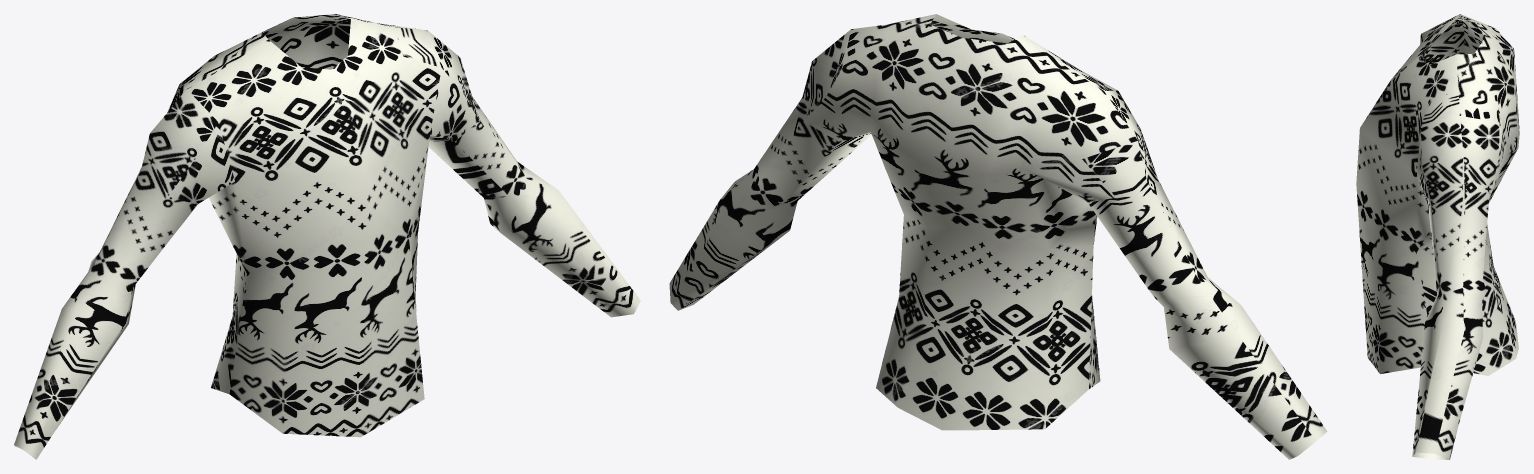
File: sweater5.fbx
3 views of the same model, side by side, from view 1: azimuth 30°, elevation 25°; view 2: azimuth 150°, elevation 25°; view 3: azimuth 270°, elevation 25° (orthographic). The views are drawn at different scales.
Visible parts, largest first — view 1: Cube; view 2: Cube; view 3: Cube.
Part boxes in pixels (x1=…): Cube: x1=14, y1=14, x2=640, y2=459; Cube: x1=669, y1=14, x2=1327, y2=459; Cube: x1=1356, y1=14, x2=1519, y2=459.
Size of the model in its own units: 243 by 139 by 64.35.
1 material, 1 textured.
